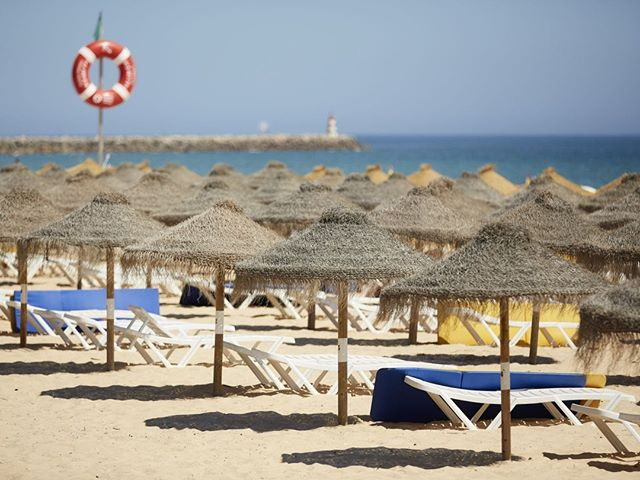beach: (16, 302, 629, 480)
sea: (124, 133, 638, 168)
sky: (2, 1, 640, 128)
